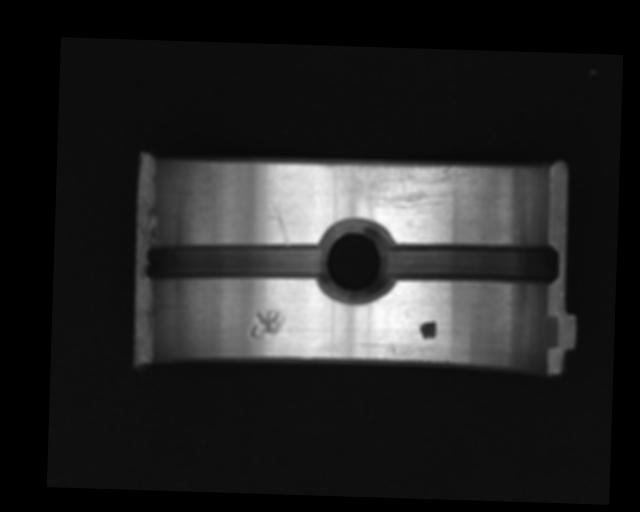blot: (419, 320, 438, 340)
bruise: (249, 309, 285, 339)
gap: (144, 237, 327, 289), (386, 240, 560, 285)
hole: (314, 219, 396, 304)
nick: (268, 192, 293, 245)
scratch: (320, 158, 484, 218)
